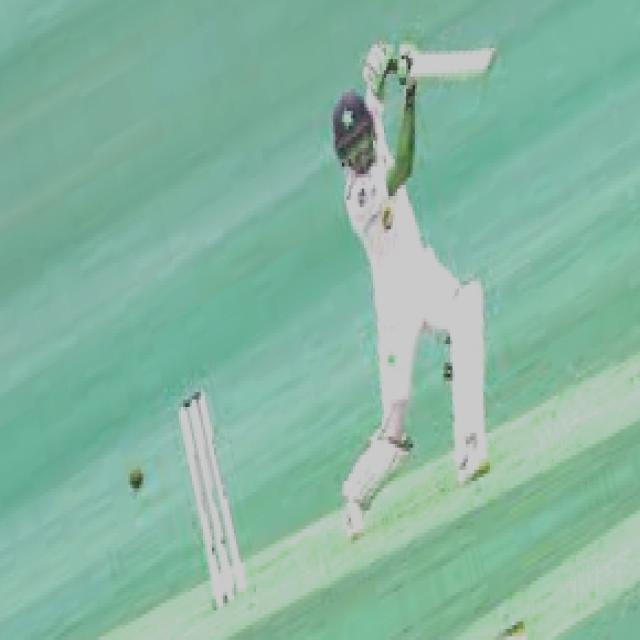bat: (390, 39, 506, 83)
toe: (478, 46, 499, 80)
